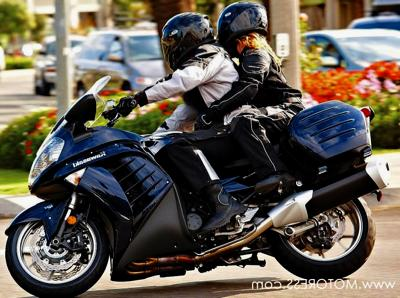With Helmet: (157, 10, 215, 72), (217, 2, 269, 52)
